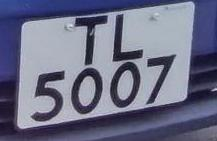0: (67, 62, 107, 119), (107, 58, 145, 112)
5: (27, 61, 70, 129)
7: (142, 54, 179, 109)
L: (109, 10, 150, 65)
T: (64, 13, 112, 69)
